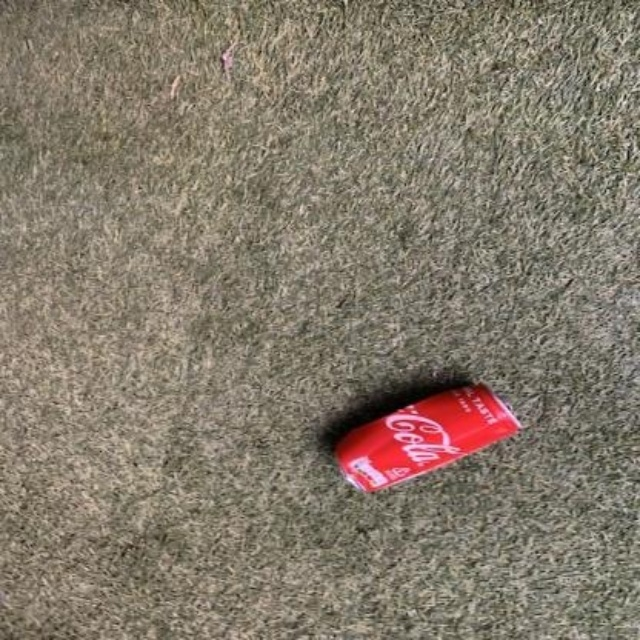trash: (335, 383, 520, 491)
